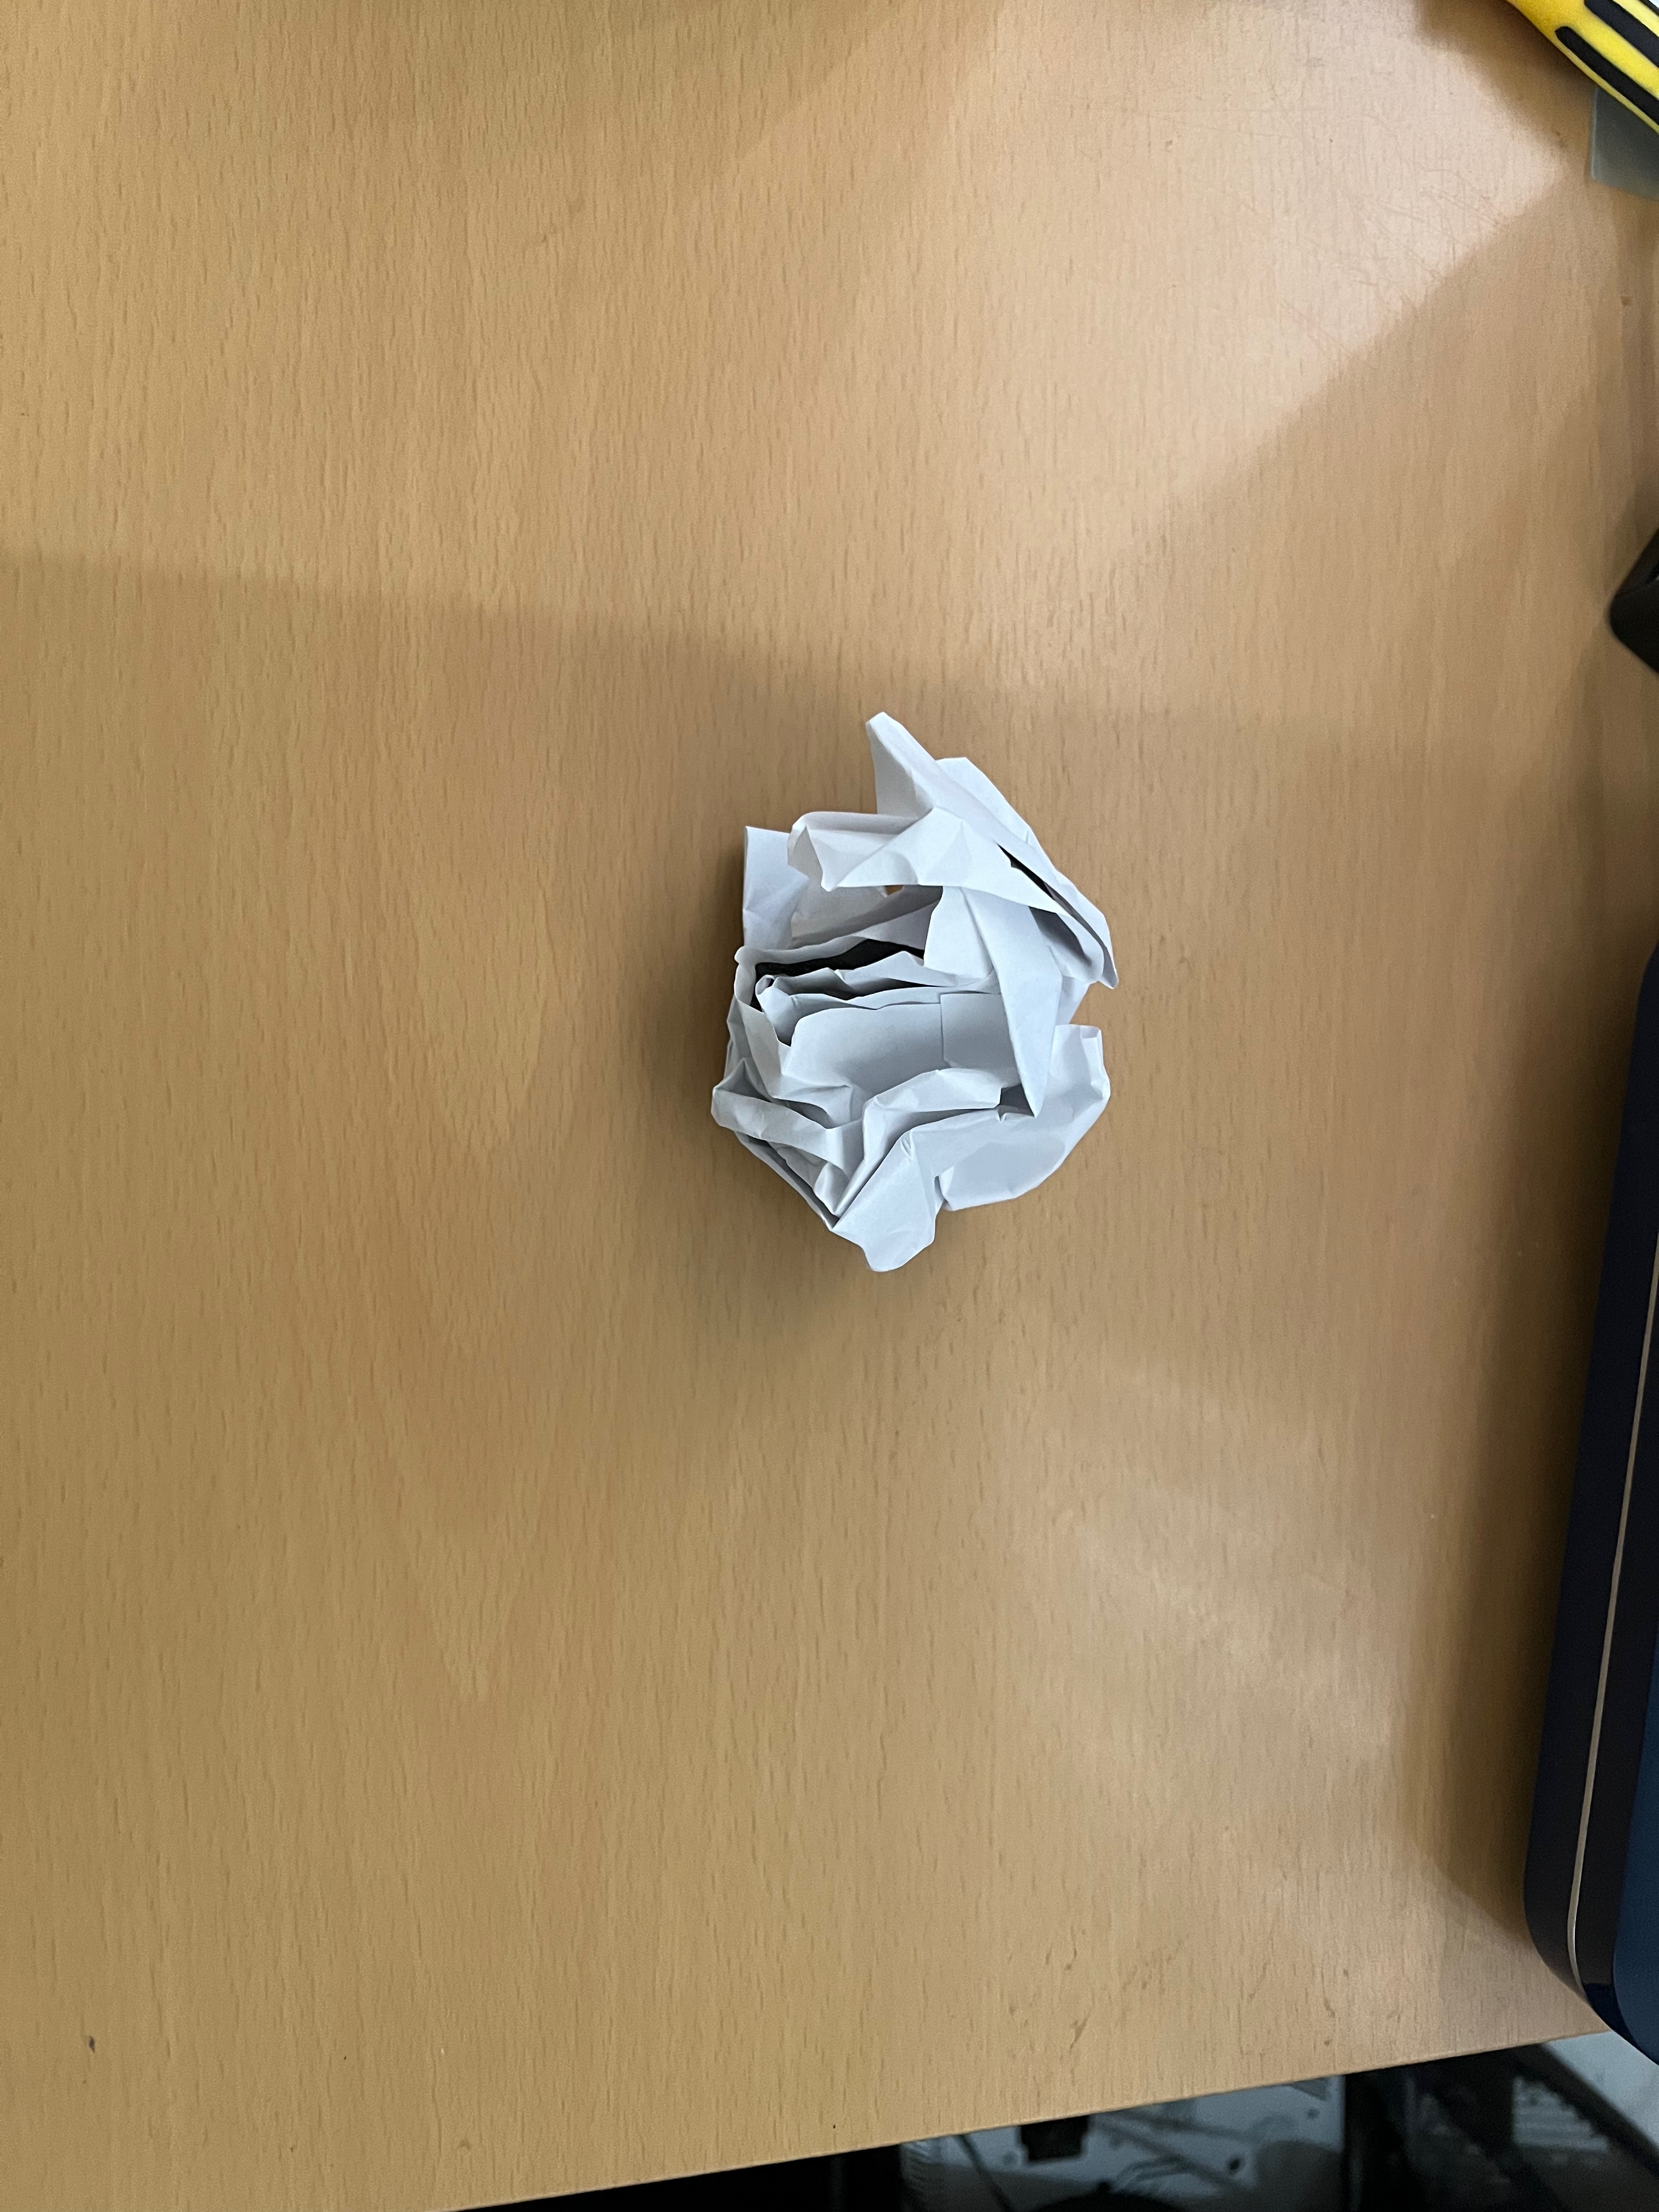trash paper: (706, 697, 1126, 1282)
